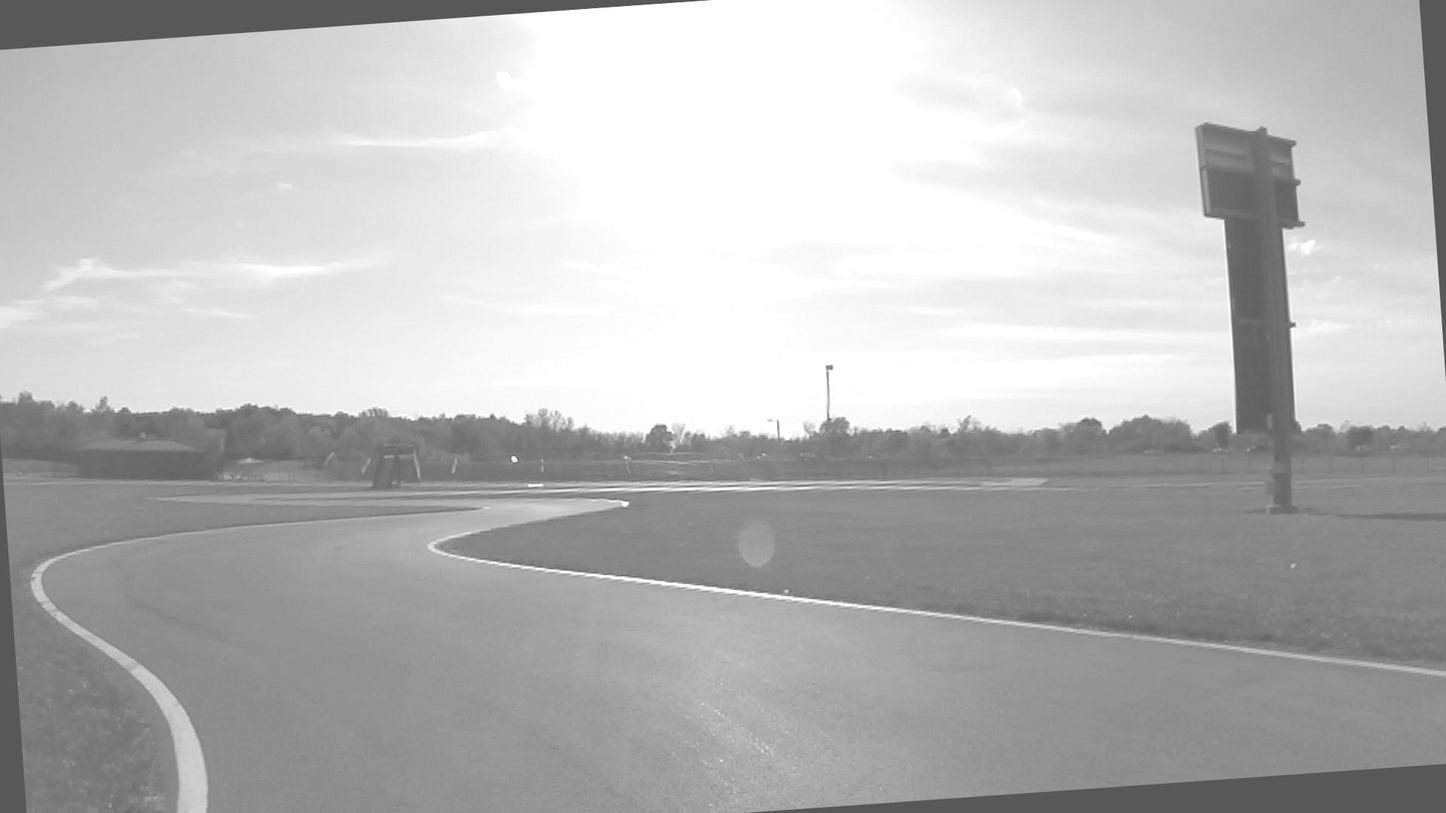white-line: (426, 525, 1446, 678), (29, 517, 350, 813), (606, 499, 629, 506)
